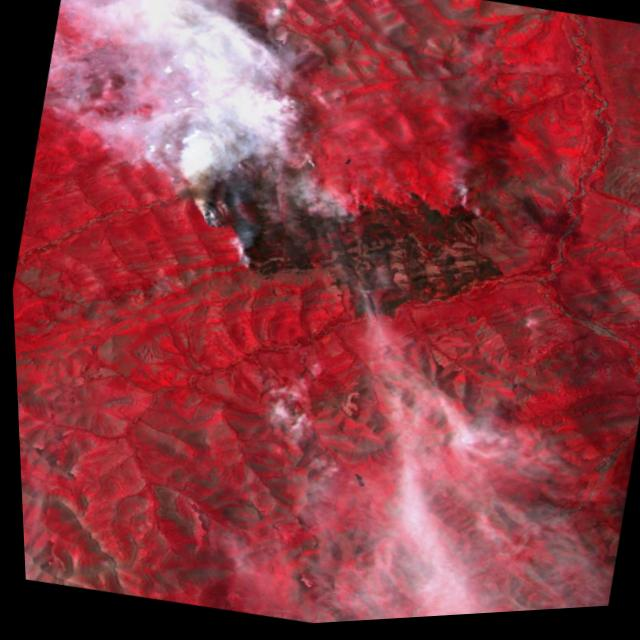fire: (171, 126, 502, 330)
